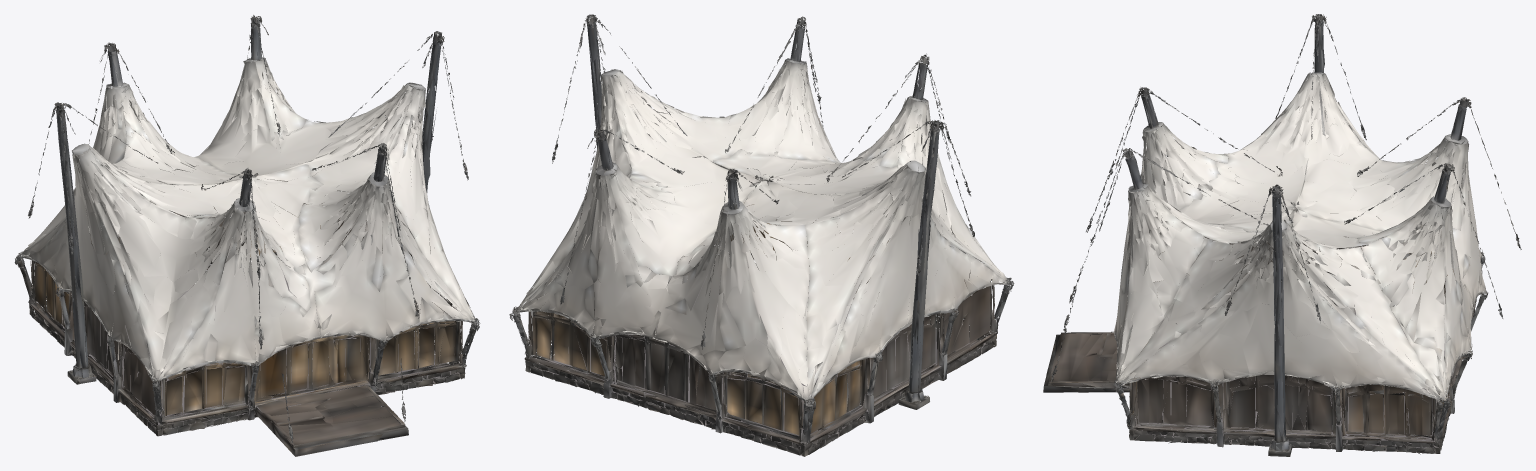
Rendered from bigtent.glb.
3 views of the same model, side by side, from view 1: azimuth 30°, elevation 25°; view 2: azimuth 150°, elevation 25°; view 3: azimuth 270°, elevation 25° (orthographic). The views are drawn at different scales.
Visible parts, largest first — view 1: LO.001; view 2: LO.001; view 3: LO.001.
Boxes of the visible parts, x1=… form: LO.001: x1=14, y1=15, x2=480, y2=456; LO.001: x1=509, y1=14, x2=1014, y2=456; LO.001: x1=1043, y1=14, x2=1521, y2=456.
Size of the model in its own units: 1.81 by 1.26 by 1.96.
1 material, 1 textured.
